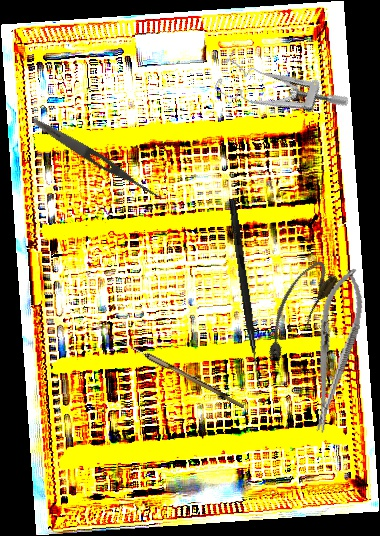Cannula: (250, 255, 342, 368)
Dressing Forceps: (30, 115, 167, 204)
Hook Surgical: (226, 198, 265, 387)
Needle Holder: (299, 263, 371, 437)
Speculum: (210, 38, 351, 148)
Surgical Spoon: (109, 334, 247, 409)
